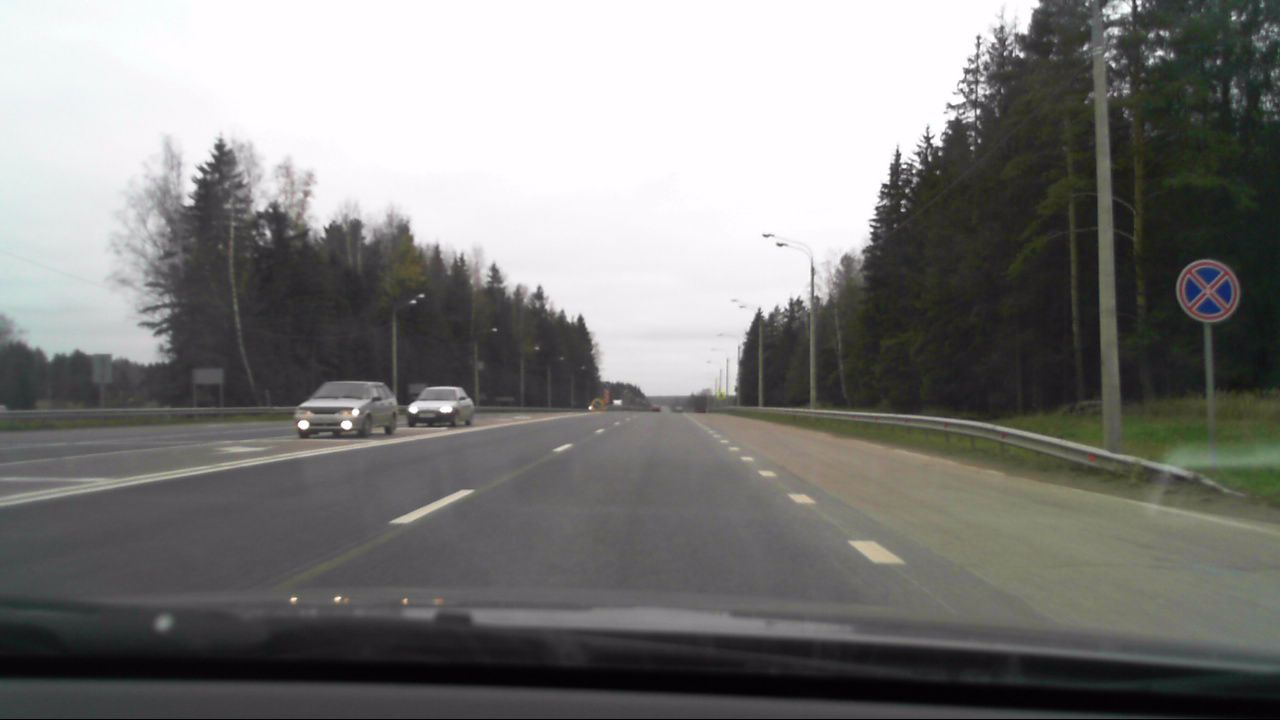No Parking: (1172, 254, 1241, 326)
